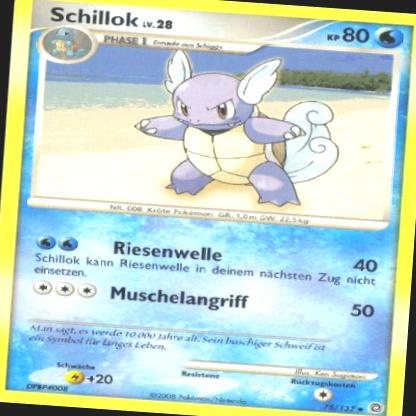Wartortle: (133, 50, 350, 213)
